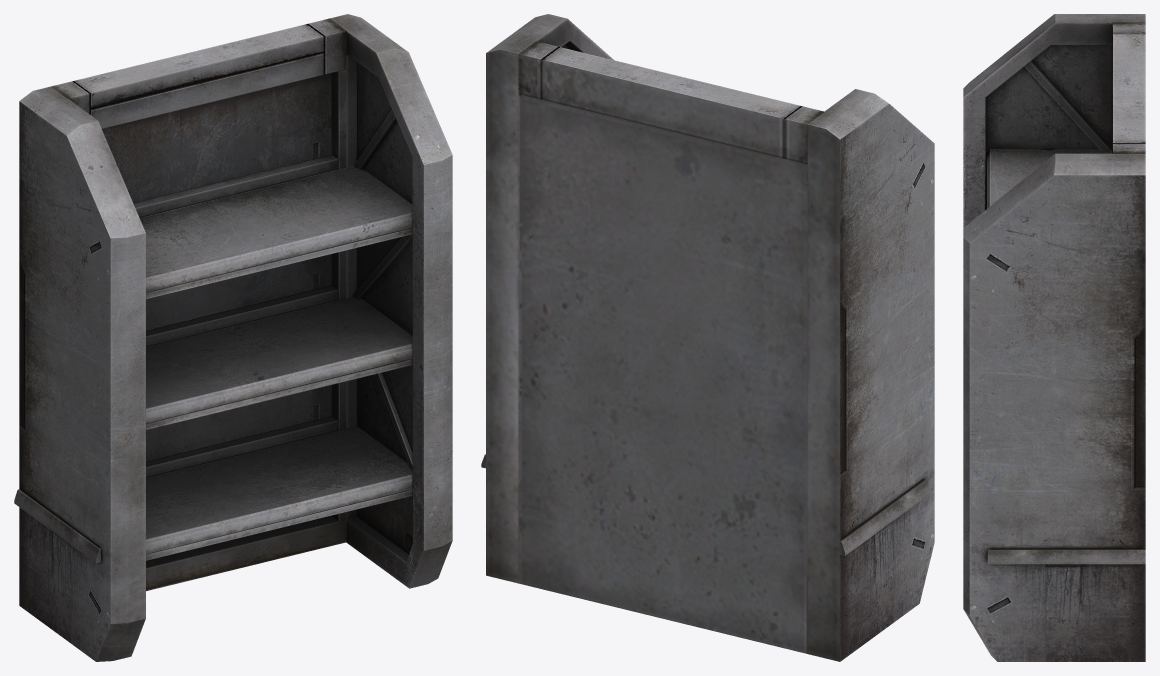
Rendered from shelf_theta.DAE.
The picture shows the model from 3 angles, left to right: view 1: azimuth 30°, elevation 25°; view 2: azimuth 150°, elevation 25°; view 3: azimuth 270°, elevation 25°; orthographic projection. The views are drawn at different scales.
Visible parts, largest first — view 1: shelf_theta; view 2: shelf_theta; view 3: shelf_theta.
Part boxes in pixels (<box>): shelf_theta: <box>14,14,452,661</box>; shelf_theta: <box>481,14,934,661</box>; shelf_theta: <box>963,14,1145,661</box>.
Bounding box in the file's own units: 1.43 × 1.99 × 0.6681.
